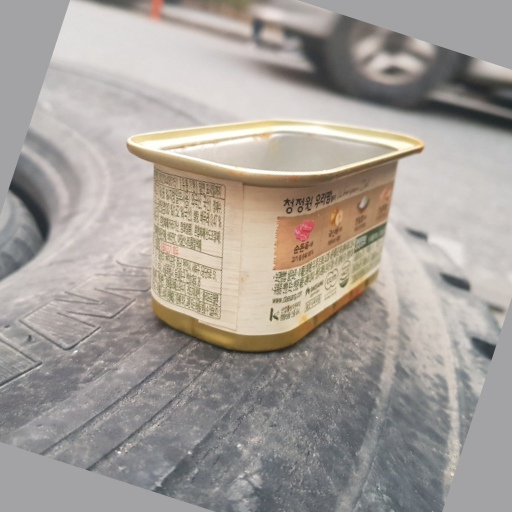Metal_2: (127, 112, 423, 353)
